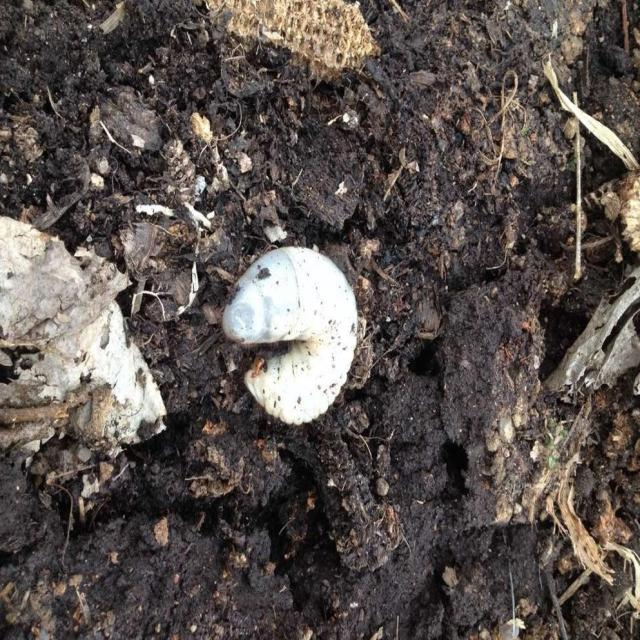grub: (227, 243, 360, 441)
